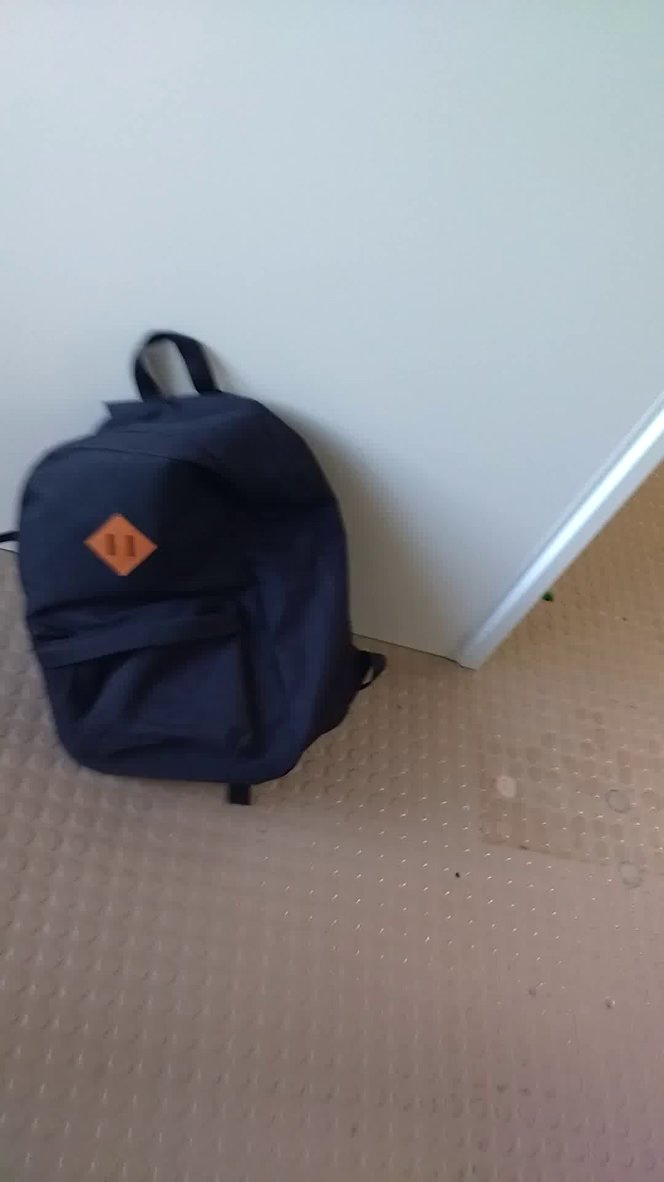bag: (1, 324, 404, 817)
